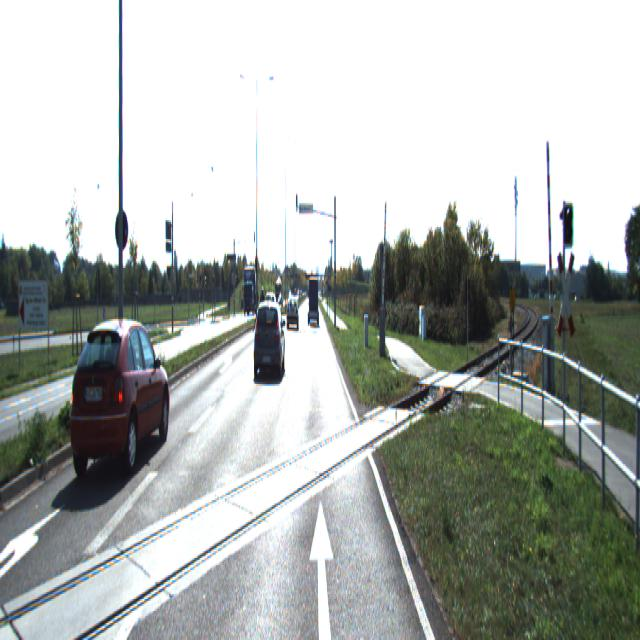Car: (67, 322, 173, 487), (252, 298, 285, 383), (242, 270, 258, 316), (308, 279, 319, 325), (264, 294, 276, 330), (286, 300, 299, 330)
